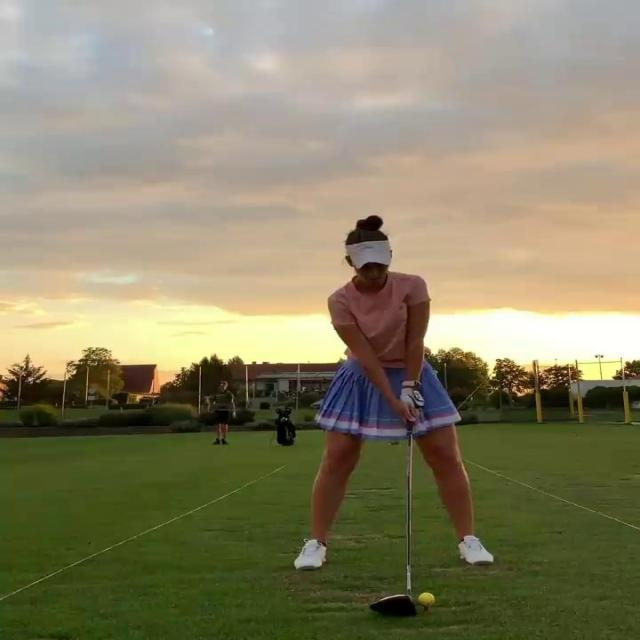golf ball: (419, 593, 435, 606)
golf club-handle: (369, 422, 415, 617)
golf club-head: (369, 593, 415, 617)
